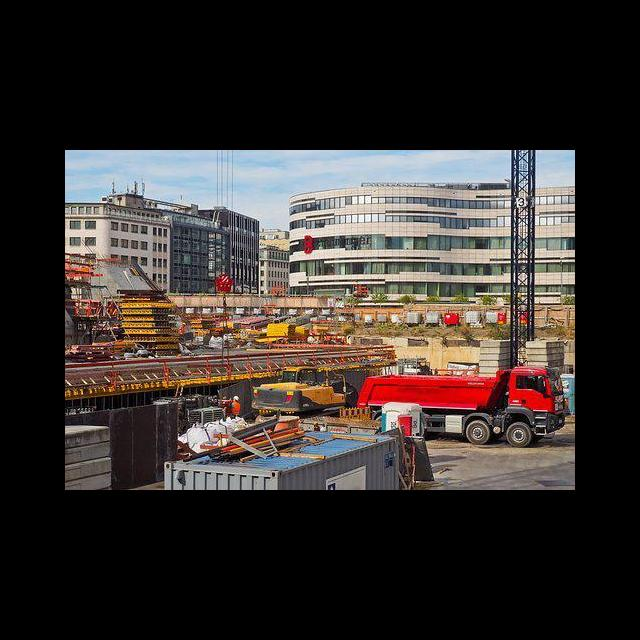Hardhat: (234, 396, 239, 400), (182, 322, 185, 325)
Person: (231, 396, 241, 418), (180, 323, 185, 334)
Safety Vest: (233, 402, 240, 415), (181, 326, 184, 333)
dump truck: (361, 365, 568, 451)
wheel loader: (252, 364, 359, 413)
